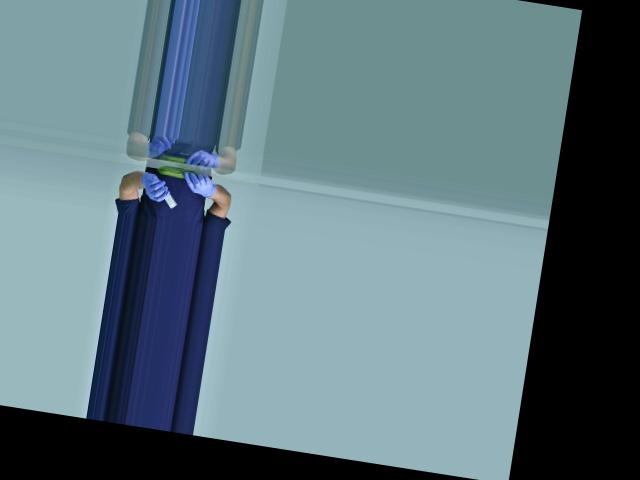cucumber: (156, 164, 197, 180)
